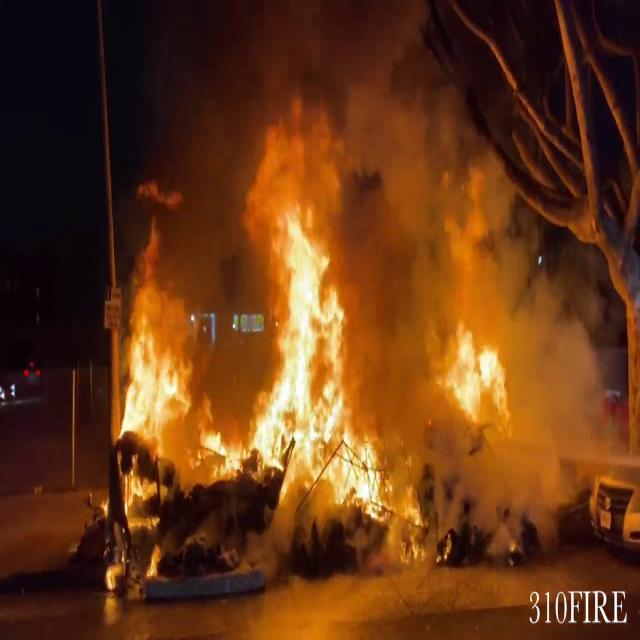Fire: (106, 100, 634, 520), (115, 119, 405, 512), (438, 314, 514, 431)
